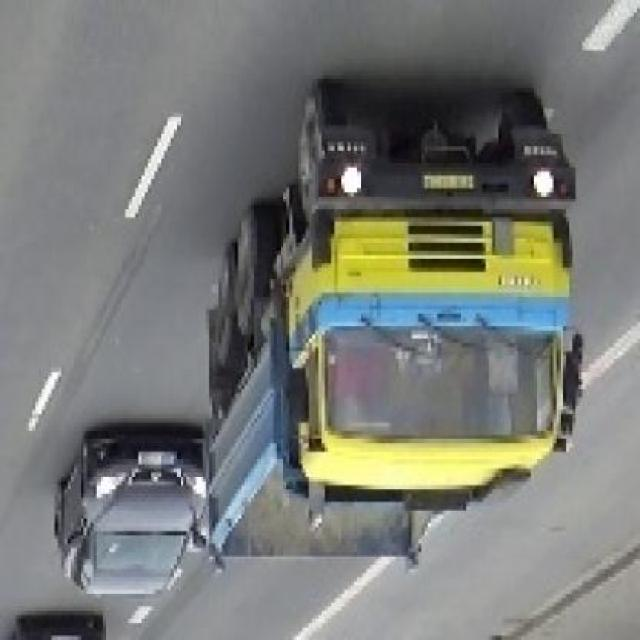truck: (197, 97, 580, 583)
